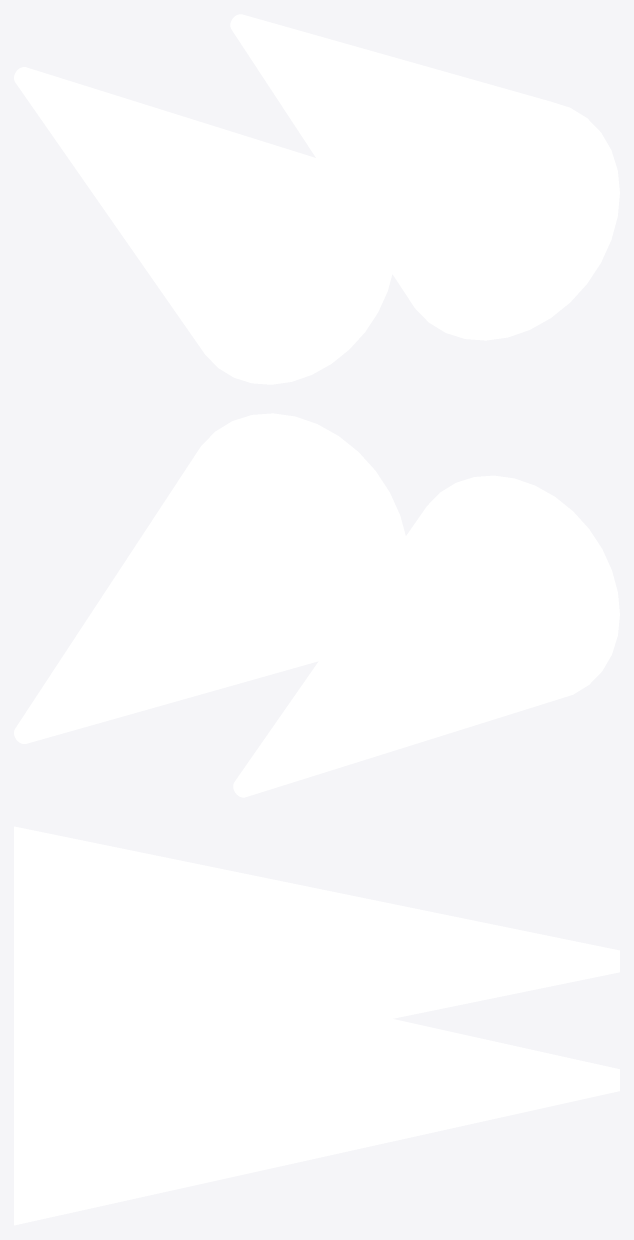
Rendered from LIGHT.glb.
3 renders of one model, top to bottom at view 1: azimuth 30°, elevation 25°; view 2: azimuth 150°, elevation 25°; view 3: azimuth 270°, elevation 25°, orthographic. The views are drawn at different scales.
Visible parts, largest first — view 1: Cylinder; view 2: Cylinder; view 3: Cylinder.
Part boxes in pixels (x1,y1,x2,y2): Cylinder: (14,14,619,384); Cylinder: (14,413,619,797); Cylinder: (14,826,619,1225).
Size of the model in its own units: 2.74 by 1.42 by 2.95.
Materials: 1 (1 with a texture image).
